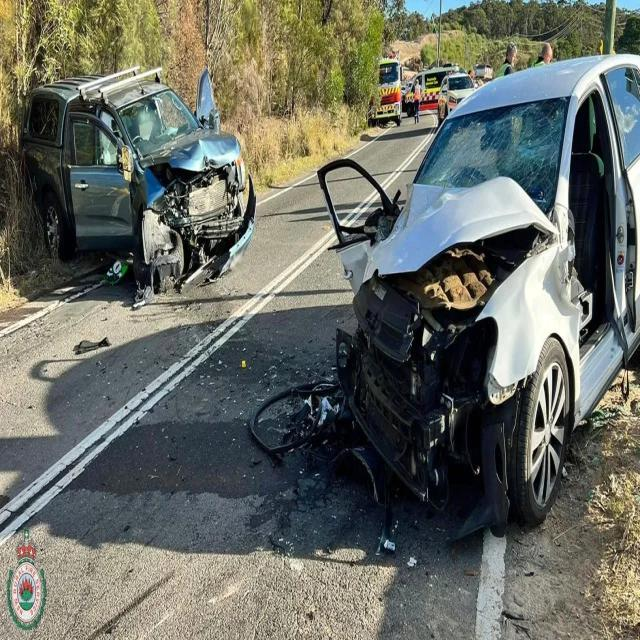Accident: (250, 38, 640, 546), (23, 72, 258, 306)
